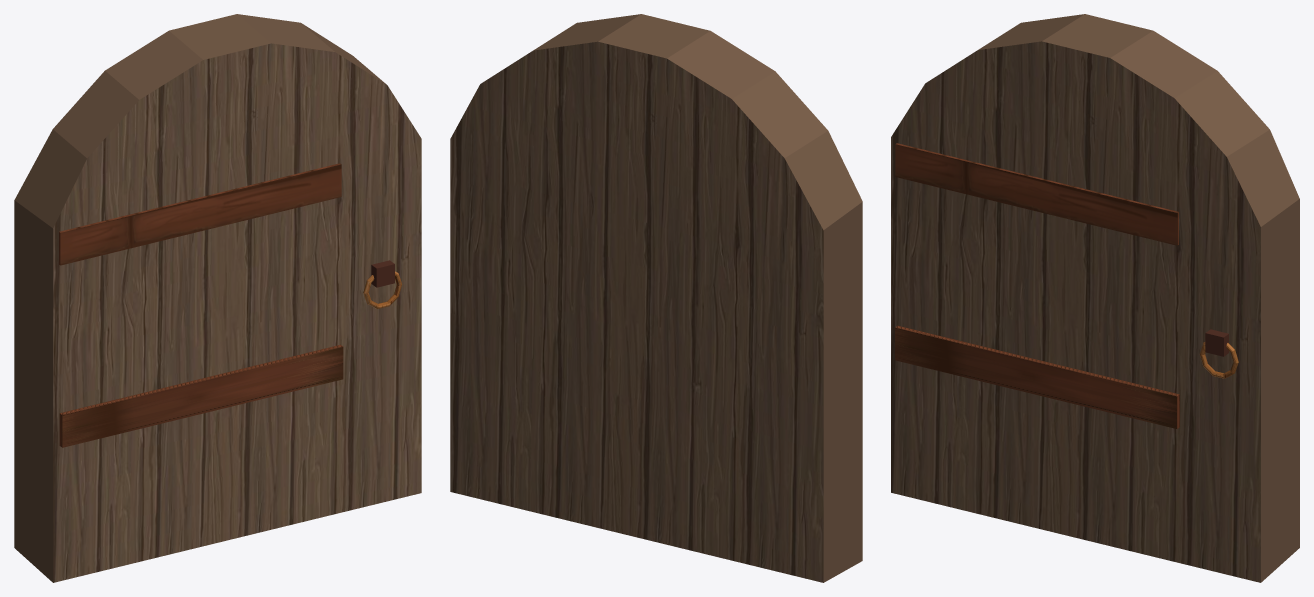
The model's file is pintu5.fbx.
3 views of the same model, side by side, from view 1: azimuth 30°, elevation 25°; view 2: azimuth 150°, elevation 25°; view 3: azimuth 330°, elevation 25° (orthographic).
Visible parts, largest first — view 1: Circle.010, Cube.002, Cube.001, Cube.003; view 2: Circle.010; view 3: Circle.010, Cube.002, Cube.001, Cube.003.
Boxes of the visible parts, bbox=[...] form: Circle.010: bbox=[14, 14, 421, 582]; Cube.002: bbox=[59, 344, 343, 447]; Cube.001: bbox=[59, 163, 341, 265]; Cube.003: bbox=[371, 260, 394, 287]; Circle.010: bbox=[450, 14, 862, 582]; Circle.010: bbox=[891, 14, 1299, 582]; Cube.002: bbox=[895, 325, 1179, 428]; Cube.001: bbox=[895, 143, 1178, 245]; Cube.003: bbox=[1205, 329, 1228, 356].
Bounding box in the file's own units: 408 × 514 × 84.24.
